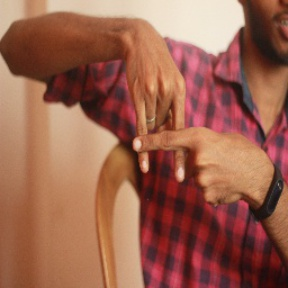H: (110, 82, 215, 193)
